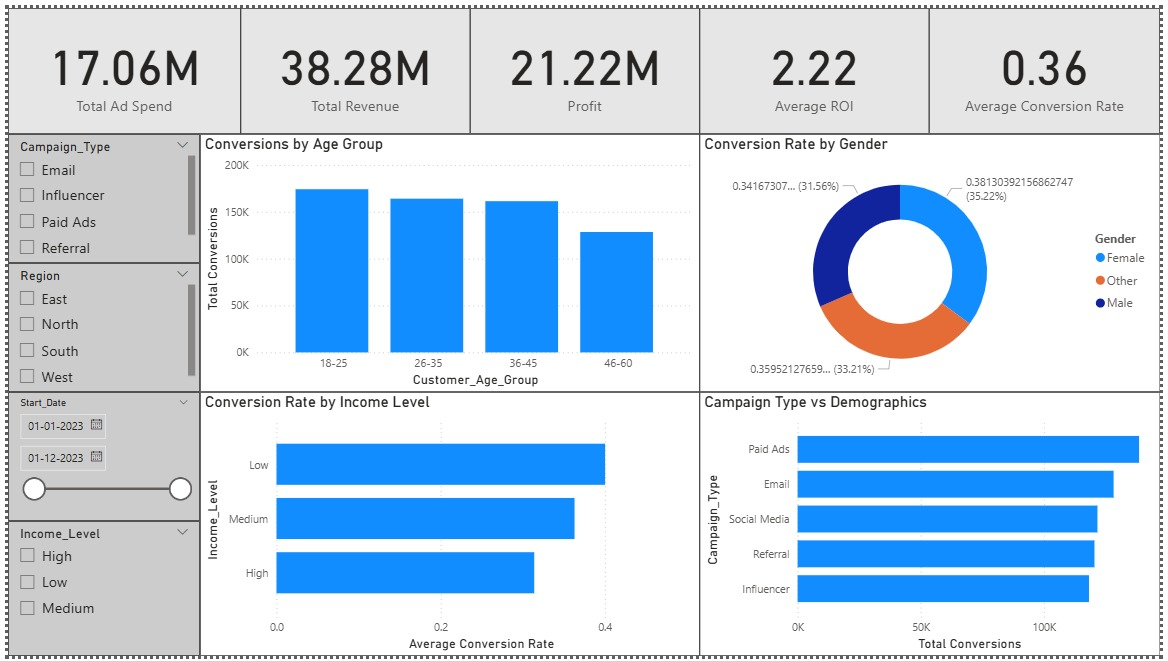

This screenshot's page, from the dashboard's own definition file:
{"tool":"powerbi","page":{"name":"Page 2","canvas":[1280,720],"ordinal":1},"visuals":[{"type":"card","fields":{"Values":["DAX Measures.Total Ad Spend"]},"box":[0,0,258.3,140],"z":0},{"type":"card","fields":{"Values":["DAX Measures.Total Revenue"]},"box":[258.3,0,255,140],"z":1},{"type":"card","fields":{"Values":["DAX Measures.Profit"]},"box":[513.3,0,255,140],"z":2},{"type":"card","fields":{"Values":["DAX Measures.Average ROI"]},"box":[768.3,0,255,140],"z":3},{"type":"card","fields":{"Values":["DAX Measures.Average Conversion Rate"]},"box":[1023.3,0,256.7,140],"z":4},{"type":"slicer","fields":{"Values":["Marketing_Campaign_Effectiveness.Campaign_Type"]},"box":[0,140,213.3,143.3],"z":5},{"type":"slicer","fields":{"Values":["Marketing_Campaign_Effectiveness.Region"]},"box":[0,283.3,213.3,143.3],"z":6},{"type":"slicer","fields":{"Values":["Marketing_Campaign_Effectiveness.Start_Date"]},"box":[0,426.7,213.3,143.3],"z":7},{"type":"slicer","fields":{"Values":["Marketing_Campaign_Effectiveness.Income_Level"]},"box":[0,570,213.3,150],"z":8},{"type":"clusteredColumnChart","title":"Conversions by Age Group","fields":{"Category":["Marketing_Campaign_Effectiveness.Customer_Age_Group"],"Y":["DAX Measures.Total Conversions"]},"box":[213.3,140,555,286.7],"z":9},{"type":"donutChart","title":"Conversion Rate by Gender","fields":{"Category":["Marketing_Campaign_Effectiveness.Gender"],"Y":["DAX Measures.Average Conversion Rate"]},"box":[768.3,140,511.7,286.7],"z":10},{"type":"barChart","title":"Conversion Rate by Income Level","fields":{"Category":["Marketing_Campaign_Effectiveness.Income_Level"],"Y":["DAX Measures.Average Conversion Rate"]},"box":[213.3,426.7,555,293.3],"z":11},{"type":"clusteredBarChart","title":"Campaign Type vs Demographics","fields":{"Category":["Marketing_Campaign_Effectiveness.Campaign_Type"],"Y":["DAX Measures.Total Conversions"]},"box":[768,427,512,293],"z":12}]}

Visuals, with their boxes in screenshot pixels (x1, y1, x2, y2), scaled from the page's 1280x720 canvas onto the 1168x661 screenshot:
card - DAX Measures.Total Ad Spend: region(0, 0, 236, 129)
card - DAX Measures.Total Revenue: region(236, 0, 468, 129)
card - DAX Measures.Profit: region(468, 0, 701, 129)
card - DAX Measures.Average ROI: region(701, 0, 934, 129)
card - DAX Measures.Average Conversion Rate: region(934, 0, 1167, 129)
slicer - Marketing_Campaign_Effectiveness.Campaign_Type: region(0, 129, 195, 260)
slicer - Marketing_Campaign_Effectiveness.Region: region(0, 260, 195, 392)
slicer - Marketing_Campaign_Effectiveness.Start_Date: region(0, 392, 195, 523)
slicer - Marketing_Campaign_Effectiveness.Income_Level: region(0, 523, 195, 660)
"Conversions by Age Group" clusteredColumnChart: region(195, 129, 701, 392)
"Conversion Rate by Gender" donutChart: region(701, 129, 1167, 392)
"Conversion Rate by Income Level" barChart: region(195, 392, 701, 660)
"Campaign Type vs Demographics" clusteredBarChart: region(701, 392, 1167, 660)
